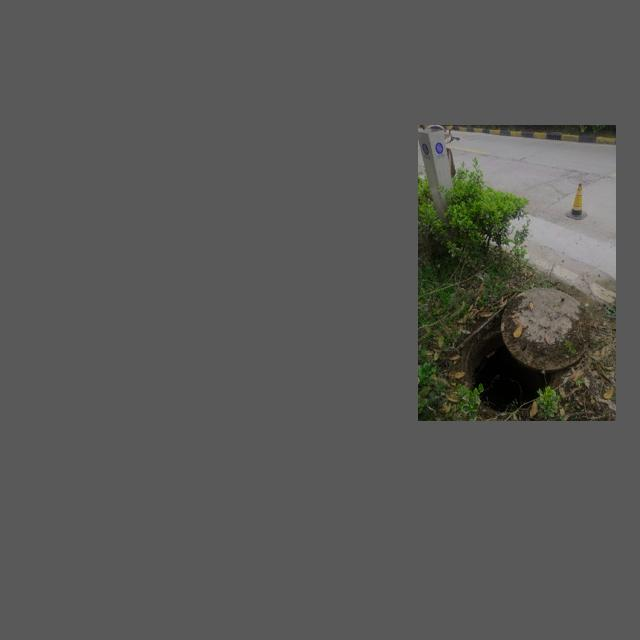uncovered: (454, 285, 589, 409)
